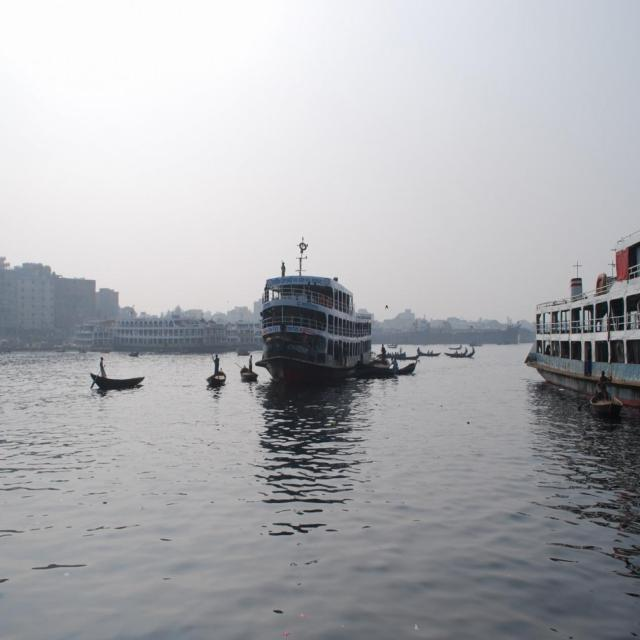passenger ship: (511, 233, 640, 394), (249, 244, 393, 384)
